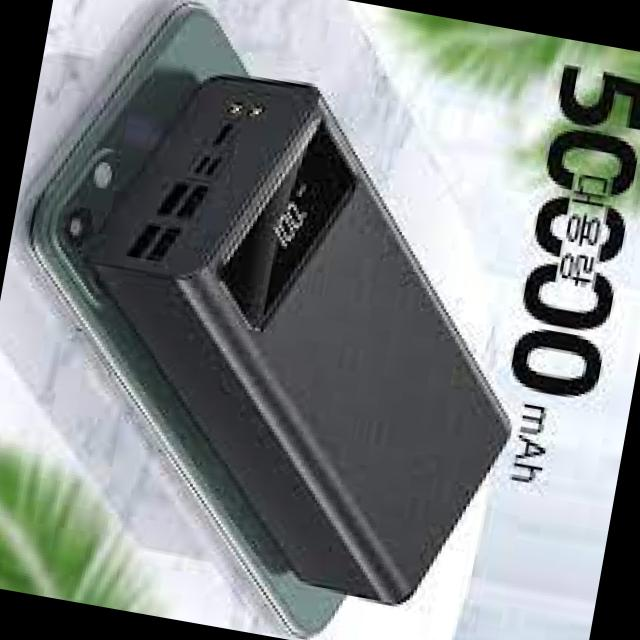portable-charger: (44, 51, 566, 624)
